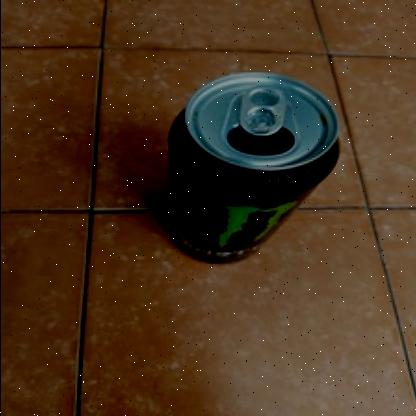Can: (167, 72, 339, 266)
